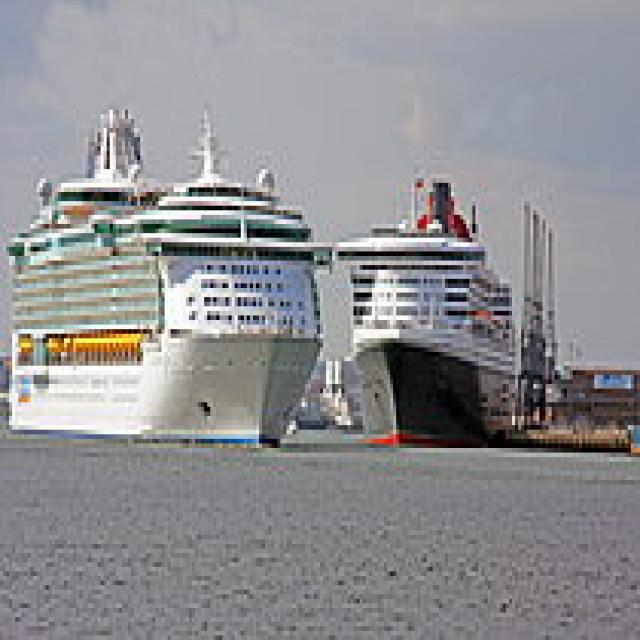Ship: (1, 83, 339, 458), (327, 165, 531, 472)
